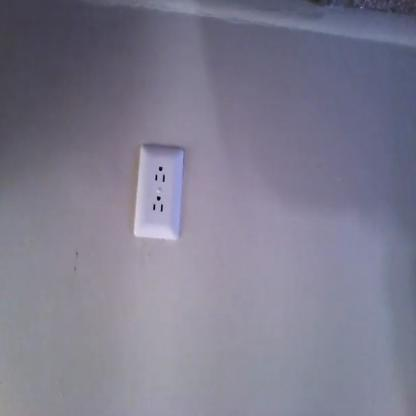OUTLET: (134, 145, 184, 240)
